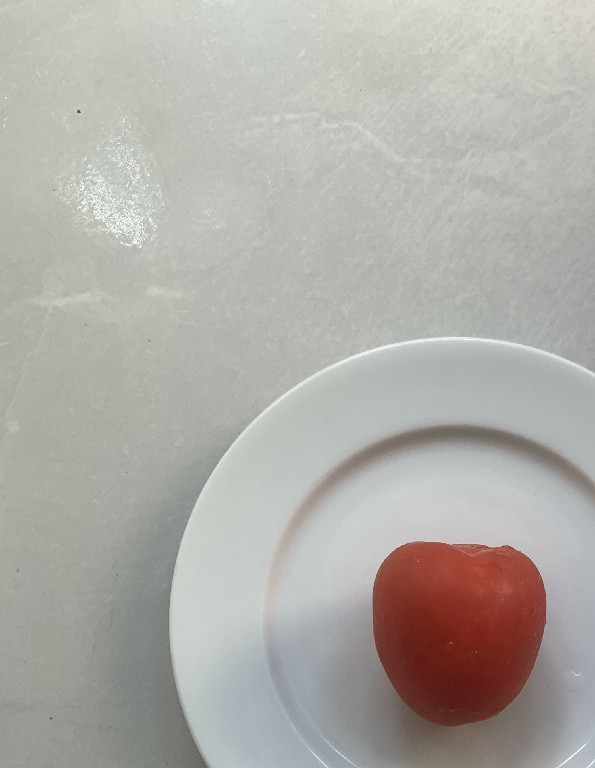OK: (368, 528, 542, 736)
